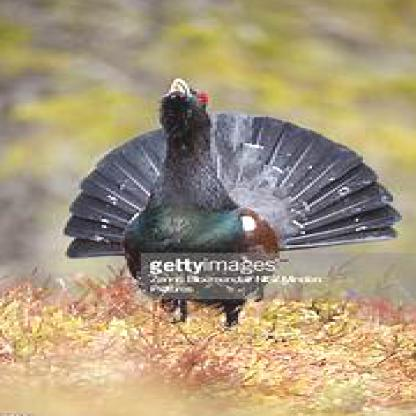chicken: (65, 76, 402, 322)
